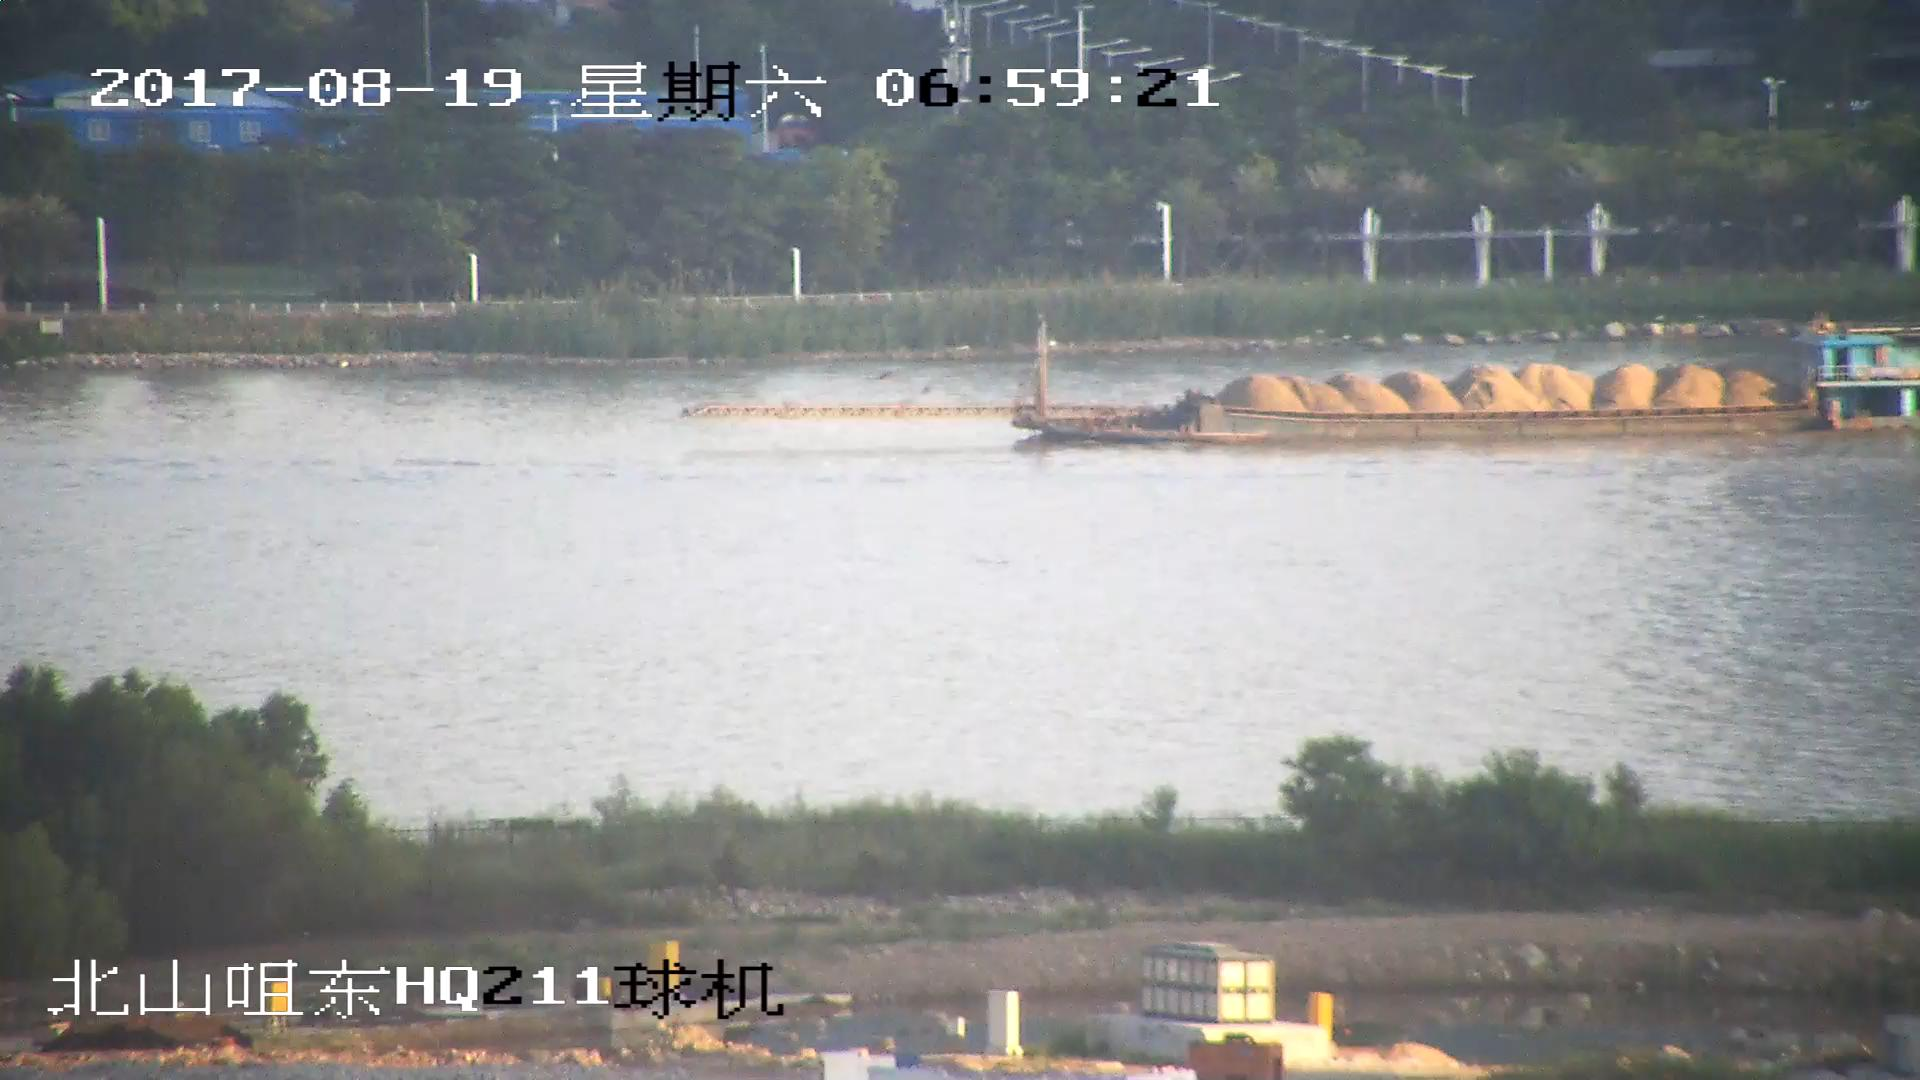ore carrier: (687, 322, 1920, 445)
